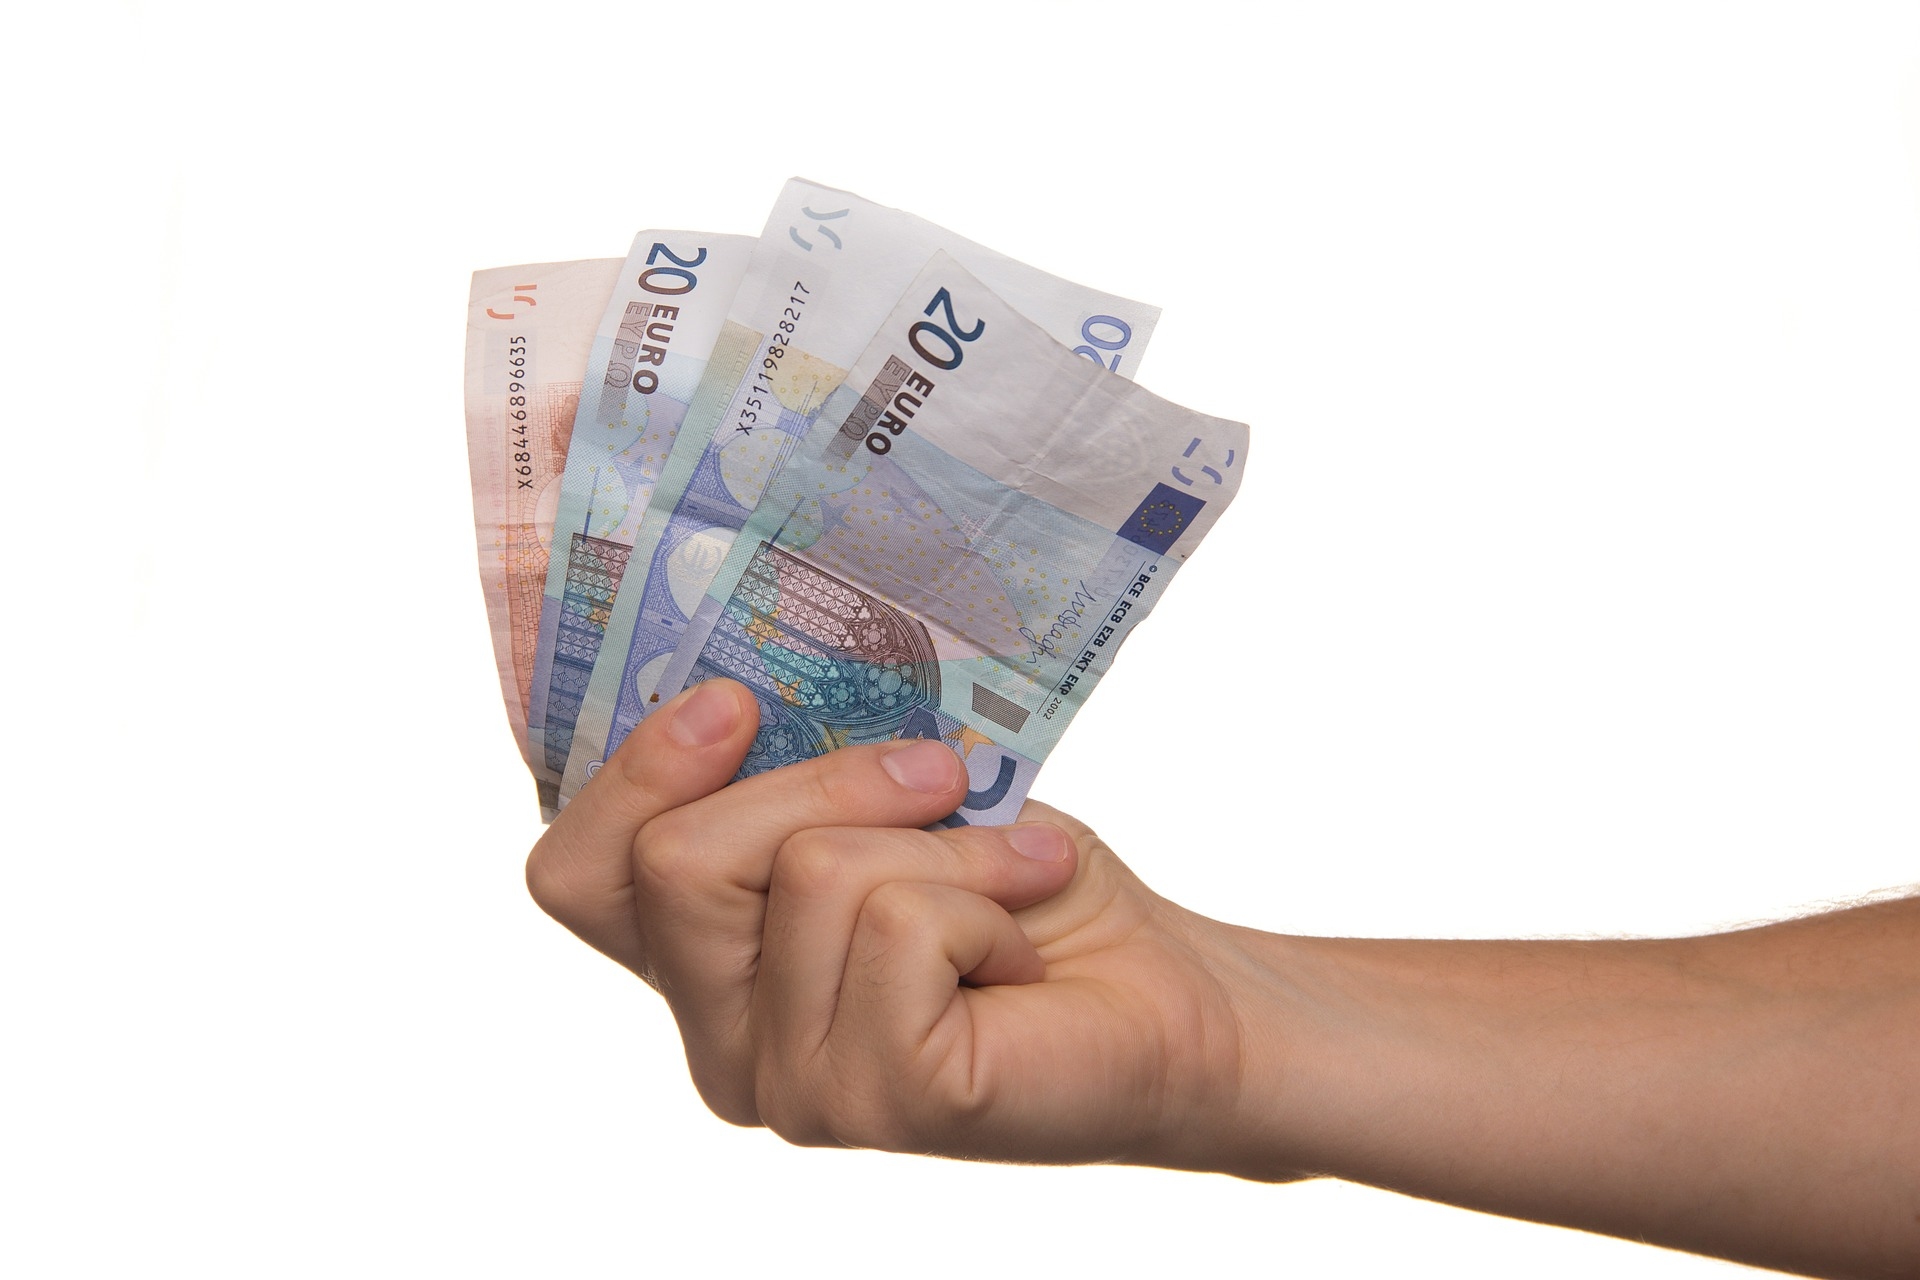billete: (457, 171, 1259, 849)
